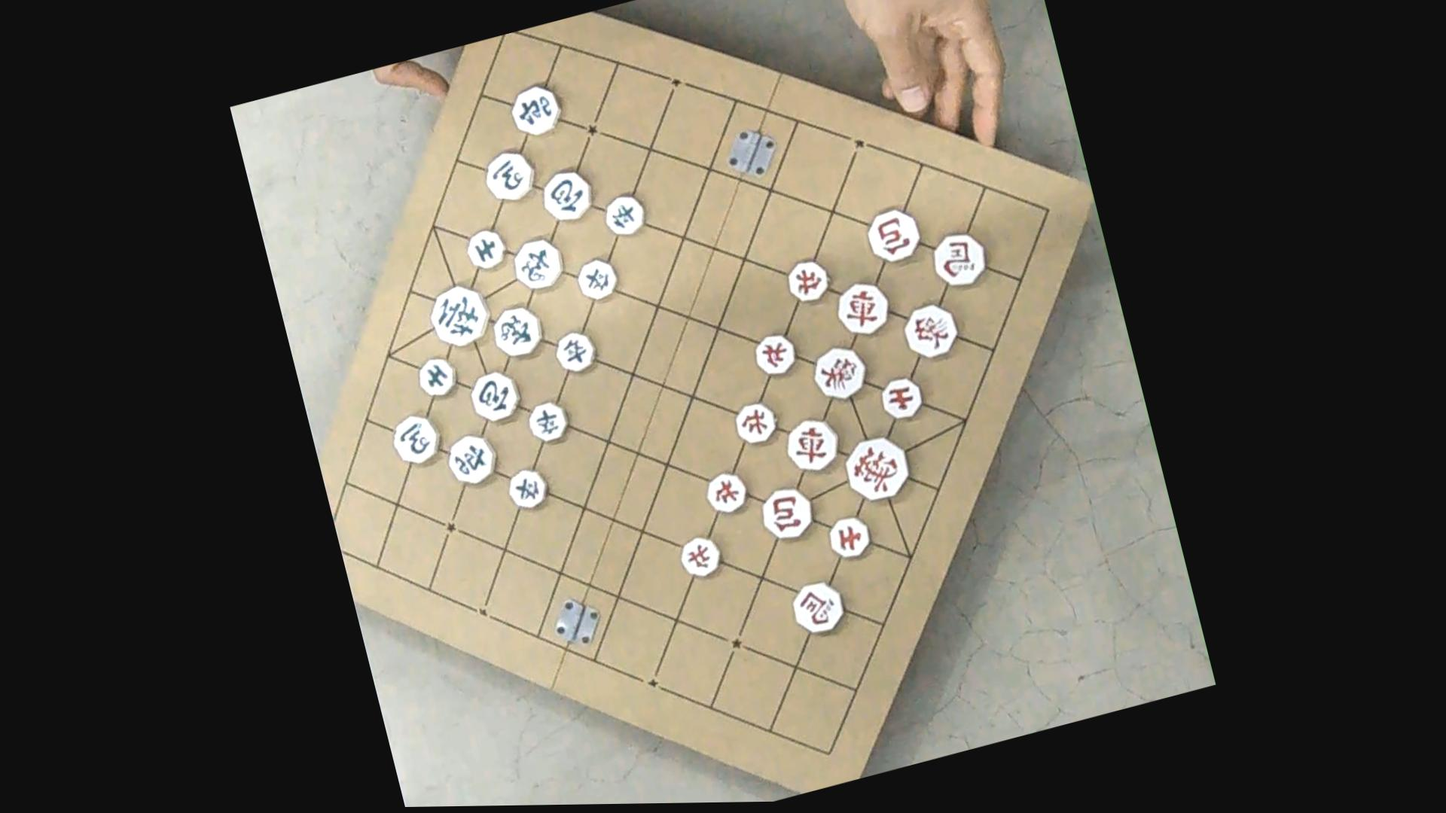cha_green: (444, 431, 502, 489), (508, 82, 565, 139)
cha_red: (831, 276, 894, 339), (782, 414, 844, 477)
jol_green: (601, 190, 648, 238), (575, 255, 621, 302), (505, 466, 551, 512), (526, 398, 571, 444), (553, 328, 598, 374)
jol_red: (676, 532, 725, 581), (752, 329, 800, 378), (703, 467, 751, 516), (784, 255, 832, 304), (732, 398, 779, 447)
ma_green: (481, 145, 539, 205), (389, 410, 444, 468)
ma_red: (929, 229, 990, 291), (789, 577, 849, 638)
po_green: (538, 166, 596, 224), (468, 367, 523, 425)
po_red: (864, 203, 924, 265), (758, 484, 817, 544)
sa_green: (414, 354, 459, 400), (464, 226, 508, 271)
sa_red: (826, 513, 874, 562), (877, 374, 925, 422)
sang_green: (509, 234, 567, 293), (490, 302, 546, 360)
sang_red: (809, 342, 871, 403), (900, 300, 961, 361)
wang_green: (426, 280, 493, 351)
wang_red: (841, 431, 914, 506)
